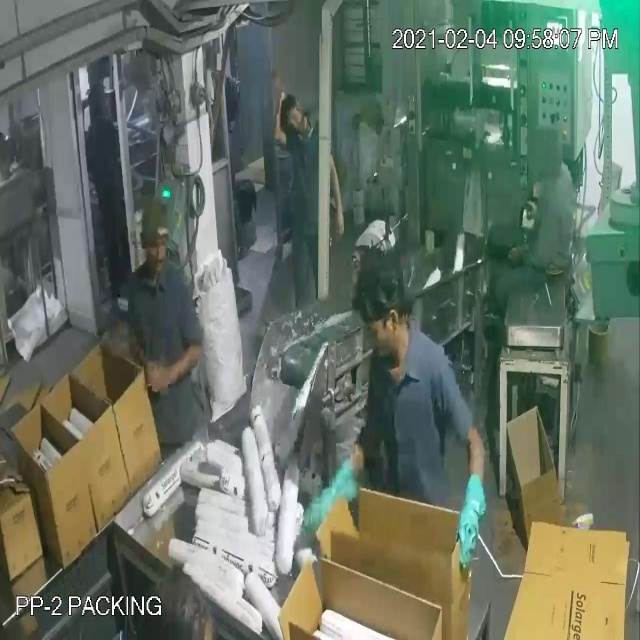Guantes: (296, 436, 374, 542), (449, 425, 494, 578)
Sin_guantes: (130, 320, 207, 400), (320, 153, 351, 248), (264, 77, 297, 156)
